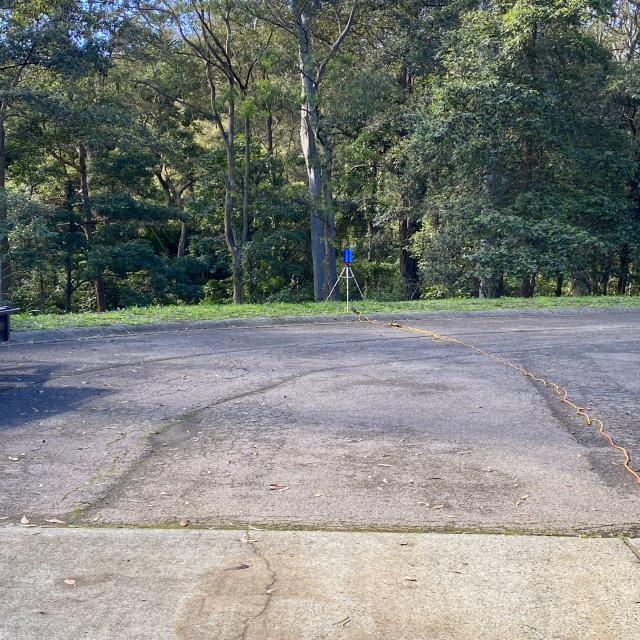matrix: (344, 248, 353, 263)
